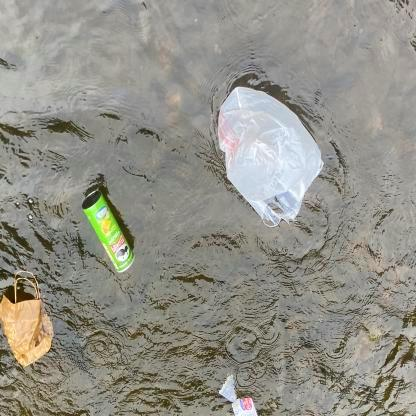Metal: (78, 186, 140, 279)
Plastic: (209, 78, 327, 235), (215, 370, 262, 416)
Trash: (0, 265, 57, 374)
